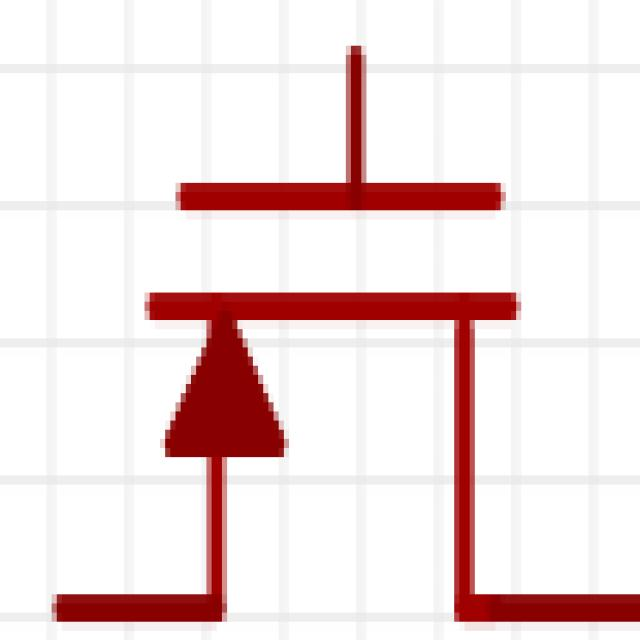pmos: (47, 26, 624, 640)
